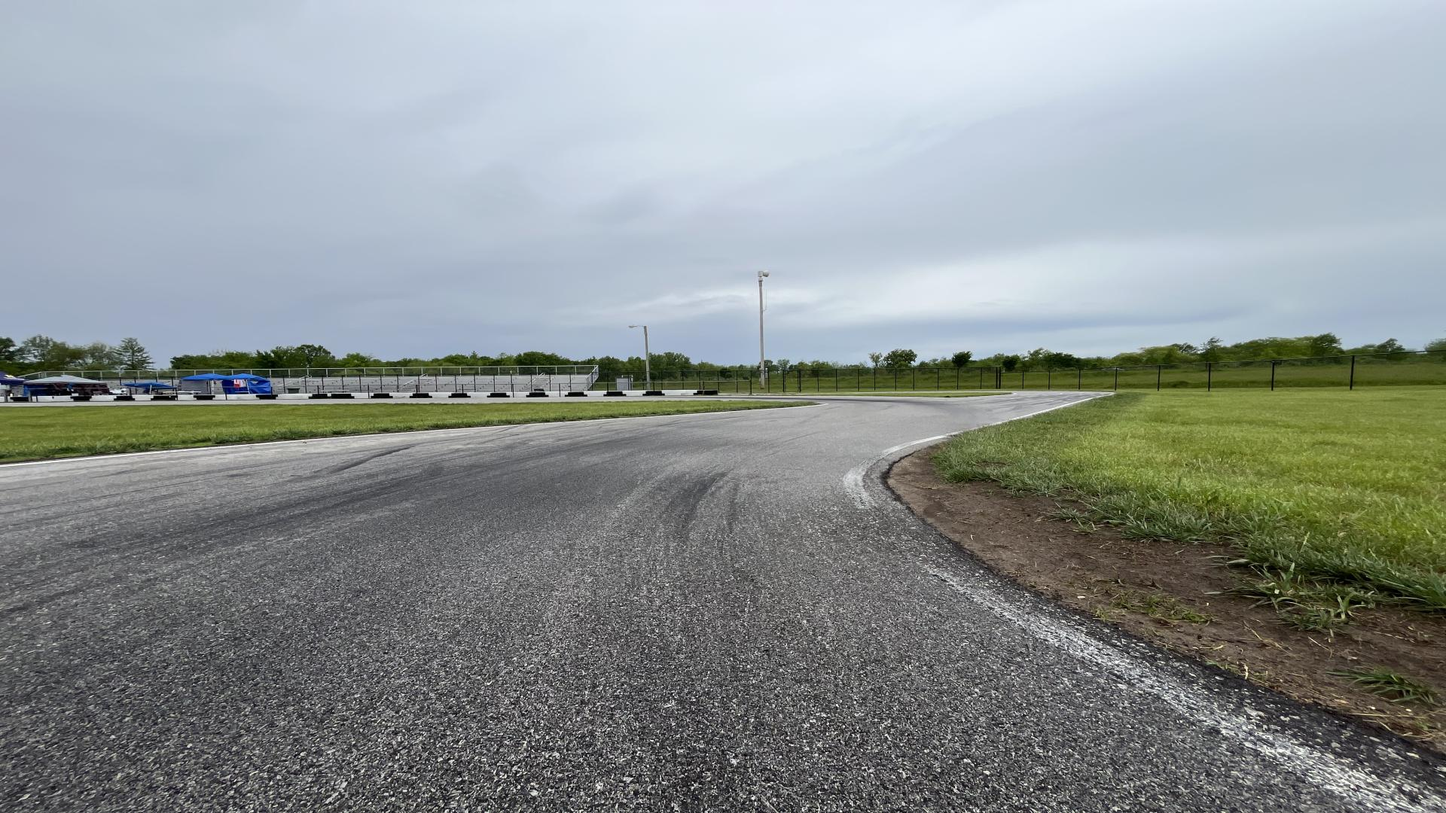white-line: (939, 572, 1445, 812), (0, 403, 828, 469), (844, 394, 1110, 513), (904, 394, 1017, 398)
